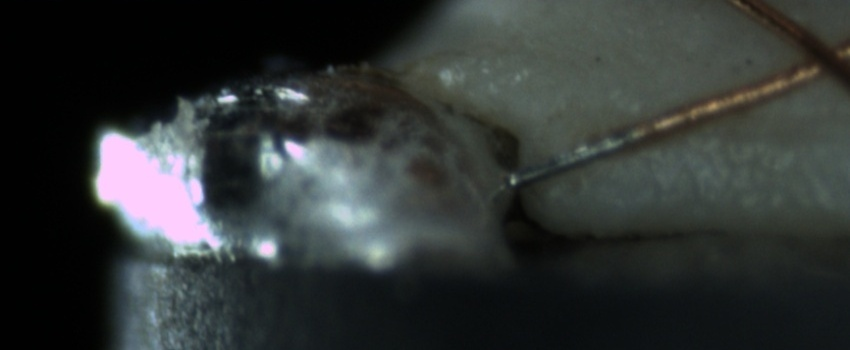CL: (768, 19, 849, 94)
TS: (505, 125, 638, 187)
